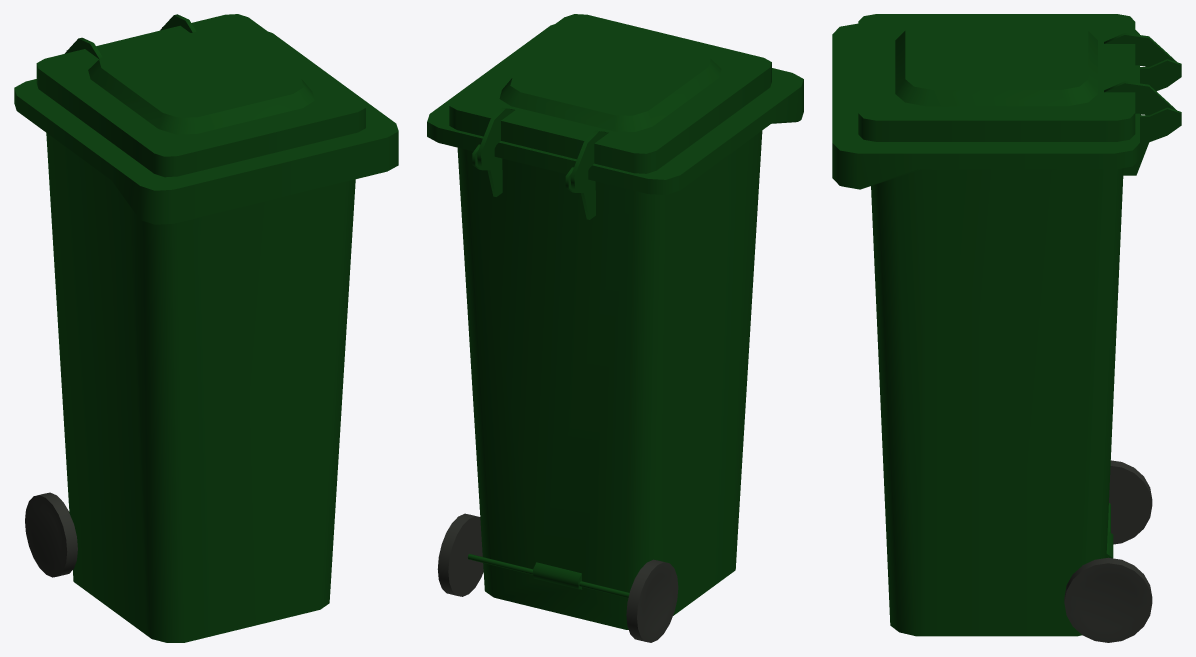
File: uploads_files_2243286_Trashbin.fbx
3 renders of one model, left to right at view 1: azimuth 30°, elevation 25°; view 2: azimuth 150°, elevation 25°; view 3: azimuth 270°, elevation 25°, orthographic. The views are drawn at different scales.
Parts seen in each view (by area): view 1: Trashbin, TrashbinLid, TrashbinWheels; view 2: Trashbin, TrashbinLid, TrashbinWheels; view 3: Trashbin, TrashbinLid, TrashbinWheels.
Part boxes in pixels (box(x1,y1,x2,y2)): Trashbin: box(14, 27, 398, 642); TrashbinLid: box(36, 14, 365, 177); TrashbinWheels: box(25, 492, 77, 577); Trashbin: box(427, 24, 803, 629); TrashbinLid: box(449, 14, 771, 188); TrashbinWheels: box(437, 513, 678, 642); Trashbin: box(832, 23, 1181, 636); TrashbinLid: box(858, 14, 1176, 141); TrashbinWheels: box(1064, 460, 1152, 642).
Bounding box in the file's own units: 64.3 × 124 × 72.97.
